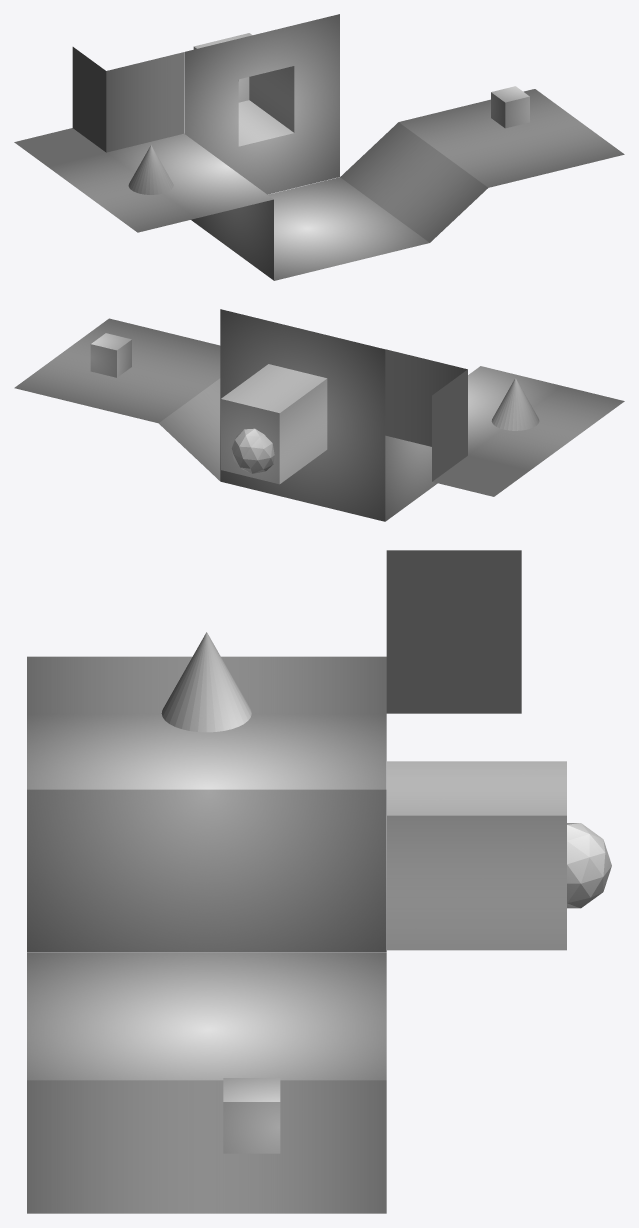
File: world.obj
3 renders of one model, top to bottom at view 1: azimuth 30°, elevation 25°; view 2: azimuth 150°, elevation 25°; view 3: azimuth 270°, elevation 25°, orthographic. The views are drawn at different scales.
Visible parts, largest first — view 1: Plane, Cube, Cone; view 2: Plane, Cube, Icosphere, Cone; view 3: Plane, Cone, Cube, Icosphere.
Boxes of the visible parts, bbox=[...] form: Plane: bbox=[14, 14, 624, 280]; Cube: bbox=[491, 86, 529, 128]; Cone: bbox=[128, 145, 173, 194]; Plane: bbox=[14, 309, 624, 521]; Cube: bbox=[90, 333, 131, 377]; Icosphere: bbox=[231, 428, 274, 473]; Cone: bbox=[491, 378, 539, 430]; Plane: bbox=[27, 550, 566, 1213]; Cone: bbox=[161, 632, 251, 732]; Cube: bbox=[223, 1078, 280, 1153]; Icosphere: bbox=[567, 823, 611, 908].
Bounding box in the file's own units: 24.99 × 8 × 12.99.
Materials: 4 (4 with a texture image).
